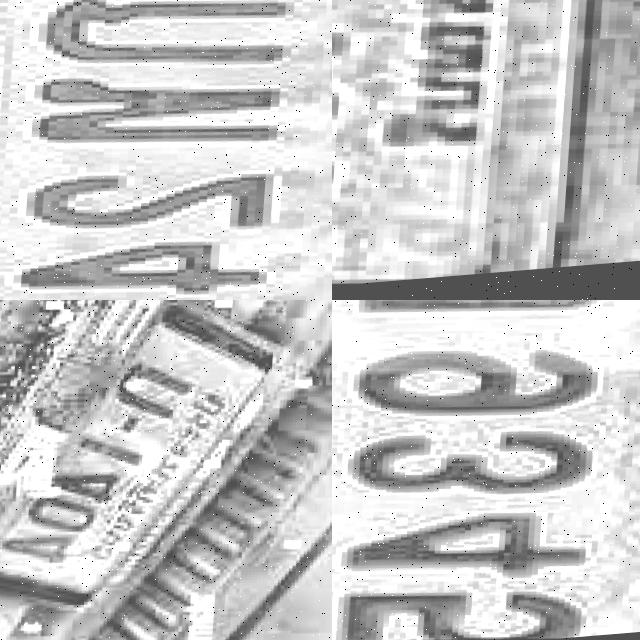license-plate: (332, 300, 640, 640), (0, 0, 332, 300), (0, 300, 290, 633), (332, 0, 602, 300)
